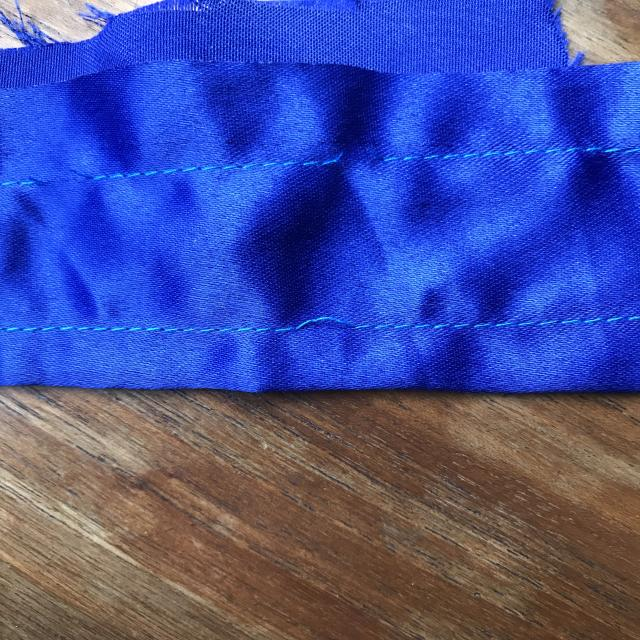broken: (294, 132, 416, 178)
good: (78, 316, 194, 345)
skip: (273, 303, 376, 348)
